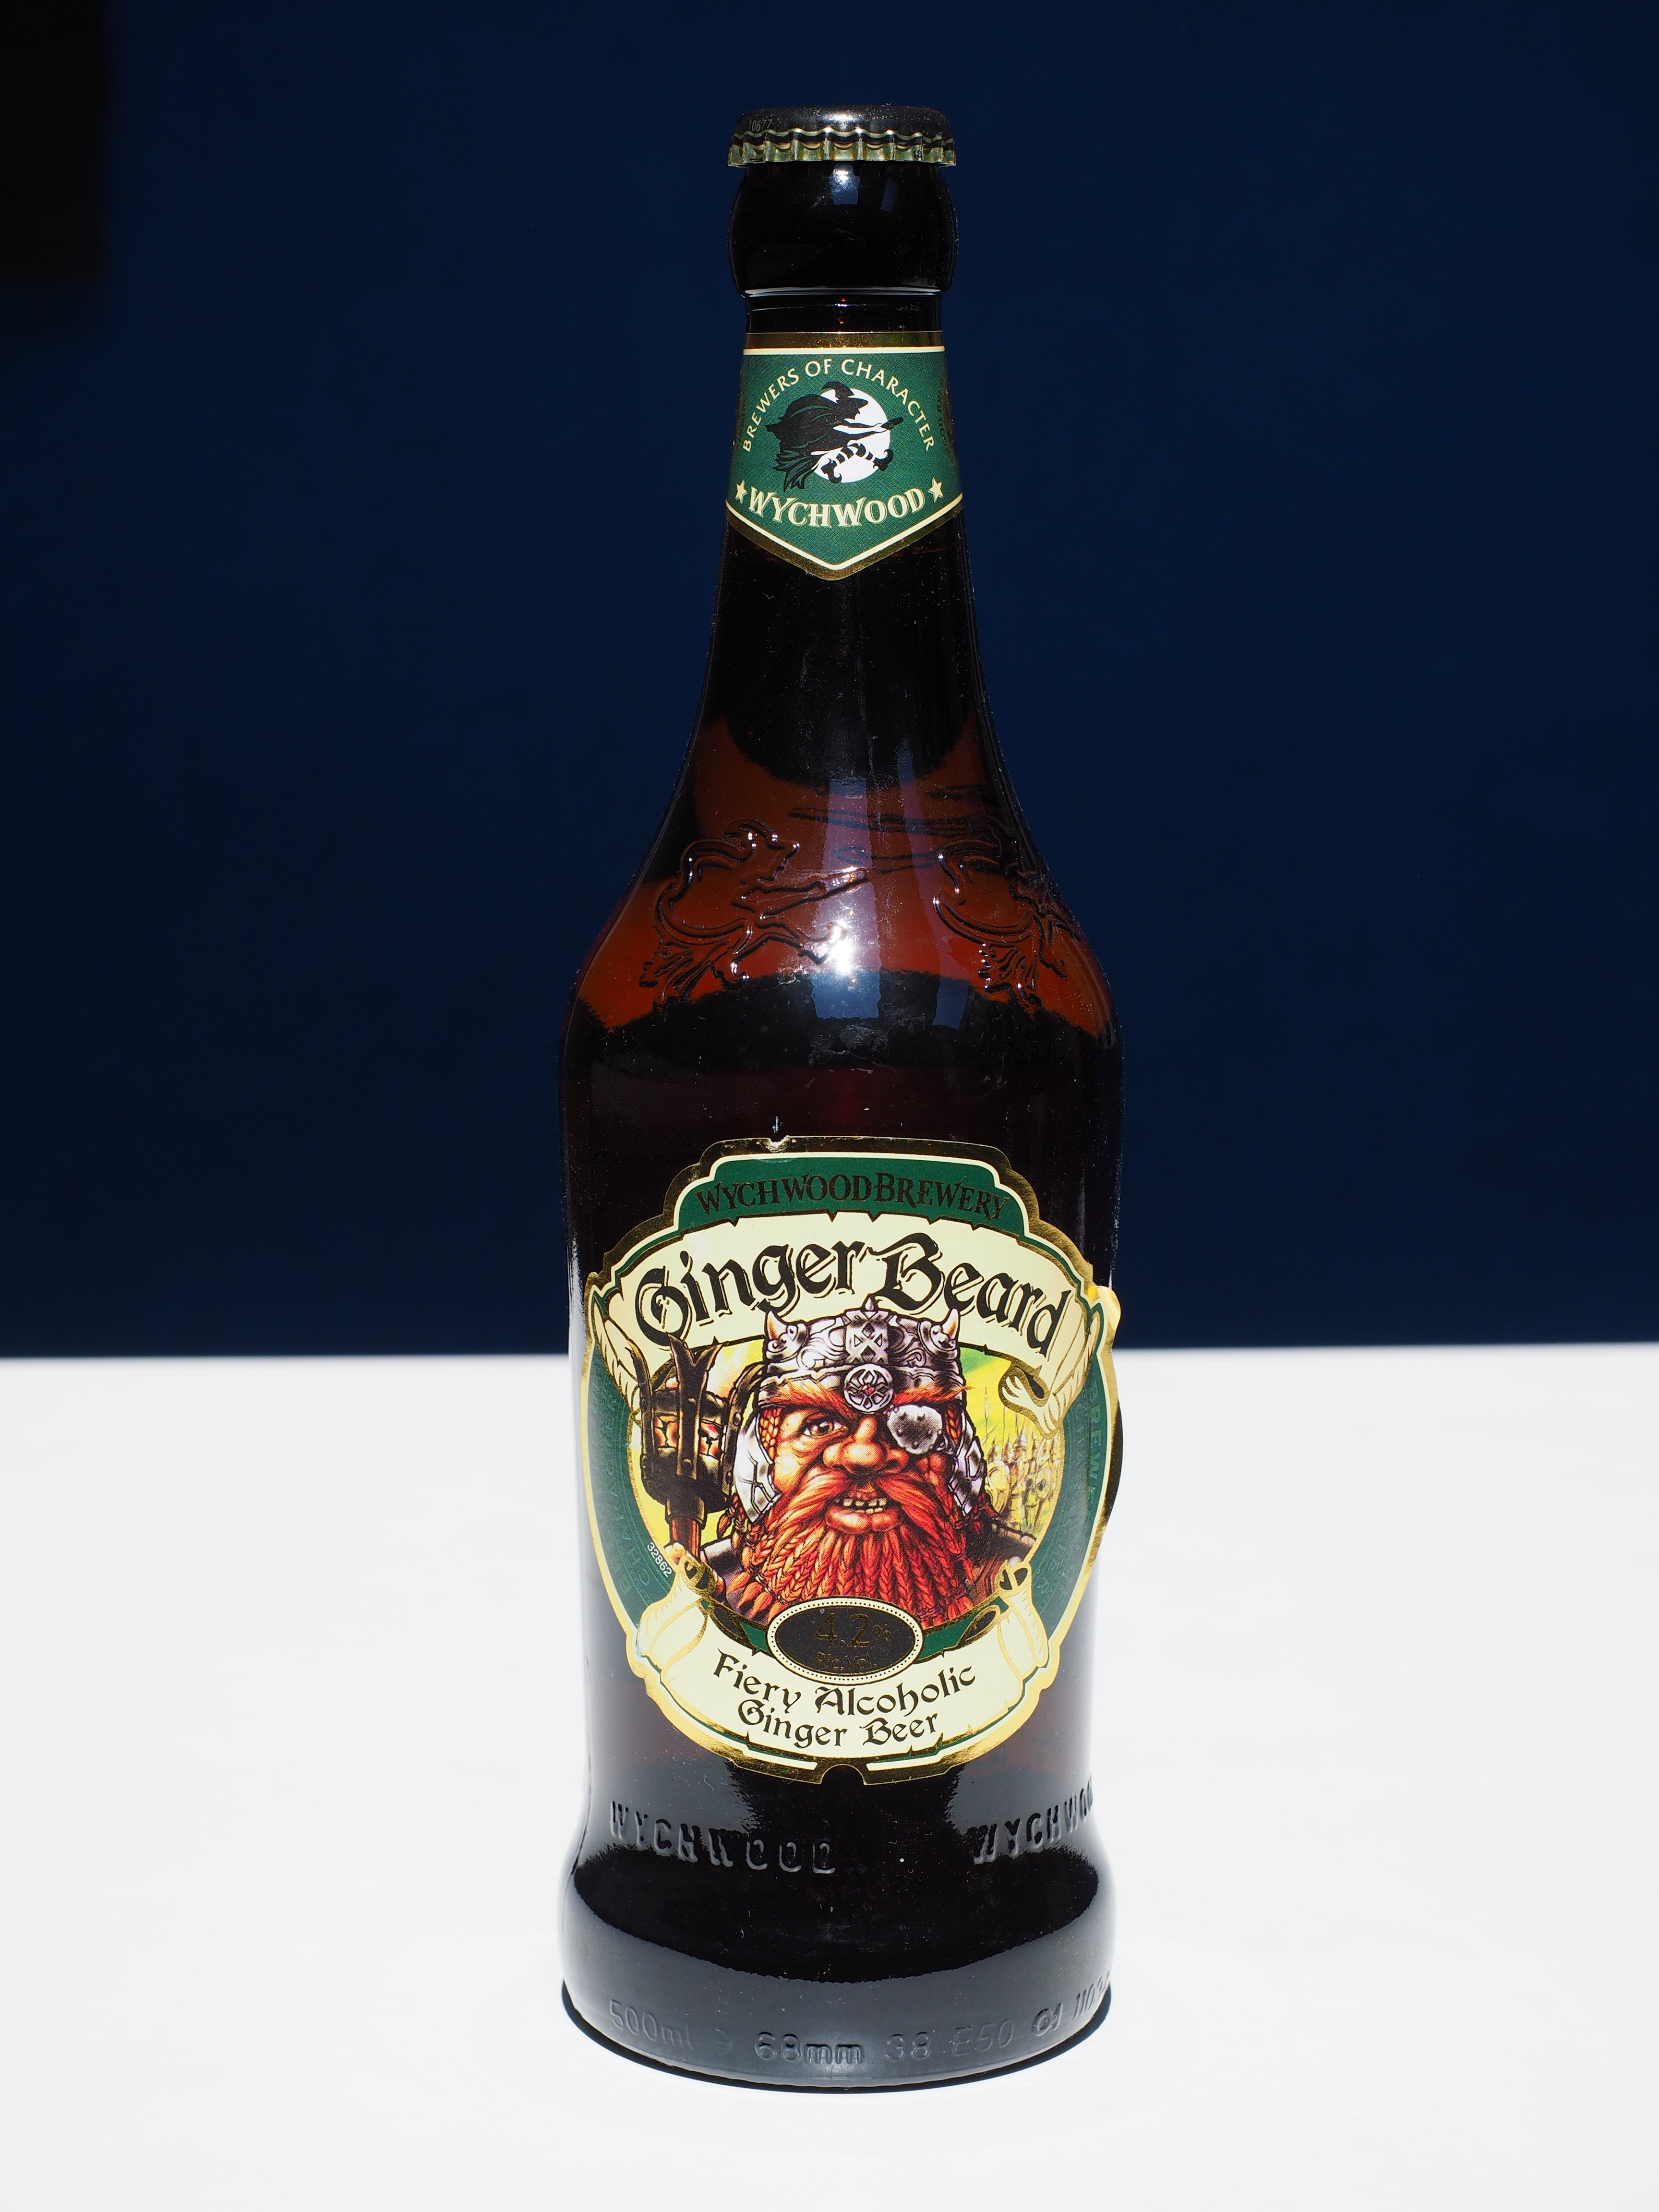glass_bottle: (512, 59, 1175, 2125)
